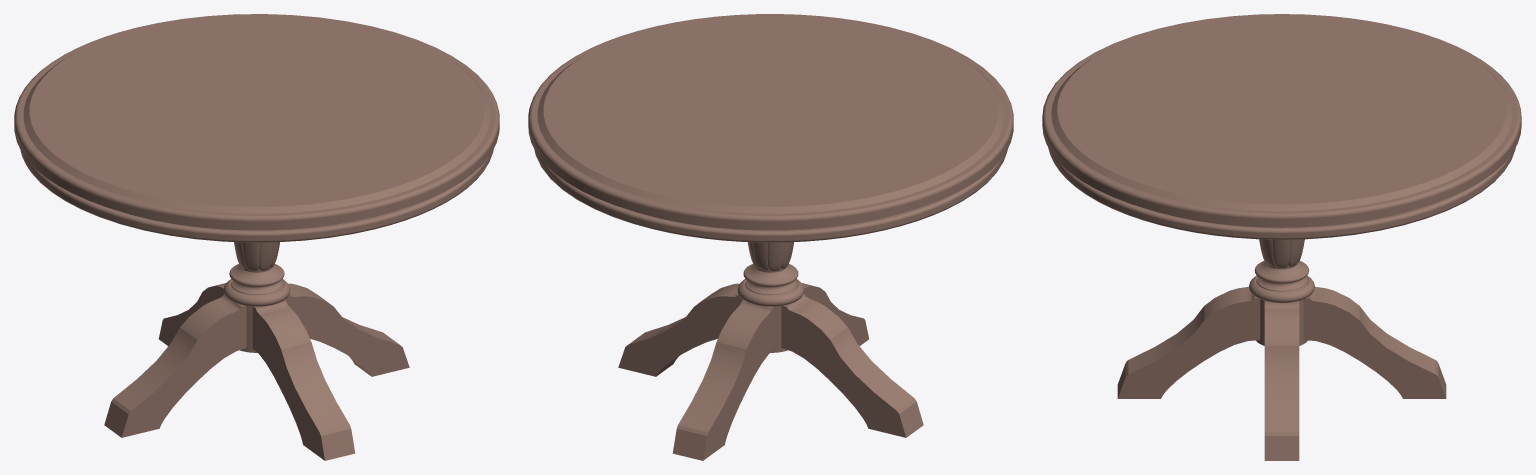
File: 383_ラウンドテーブル.glb
3 renders of one model, left to right at view 1: azimuth 30°, elevation 25°; view 2: azimuth 150°, elevation 25°; view 3: azimuth 270°, elevation 25°, orthographic.
Parts seen in each view (by area): view 1: 383_ラウンドテーブル; view 2: 383_ラウンドテーブル; view 3: 383_ラウンドテーブル.
Boxes of the visible parts, bbox=[...] form: 383_ラウンドテーブル: bbox=[14, 14, 499, 460]; 383_ラウンドテーブル: bbox=[528, 14, 1013, 460]; 383_ラウンドテーブル: bbox=[1042, 14, 1521, 460].
Size of the model in its own units: 1.11 by 0.72 by 1.11.
